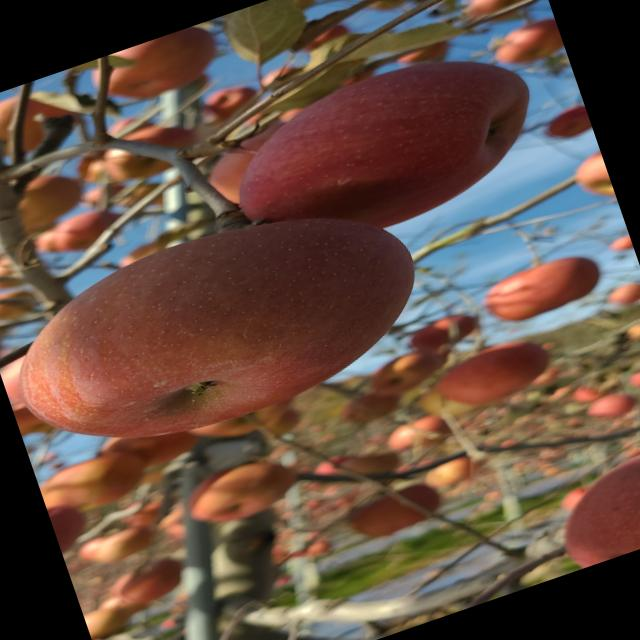fresh: (1, 164, 457, 495), (201, 20, 573, 280)
